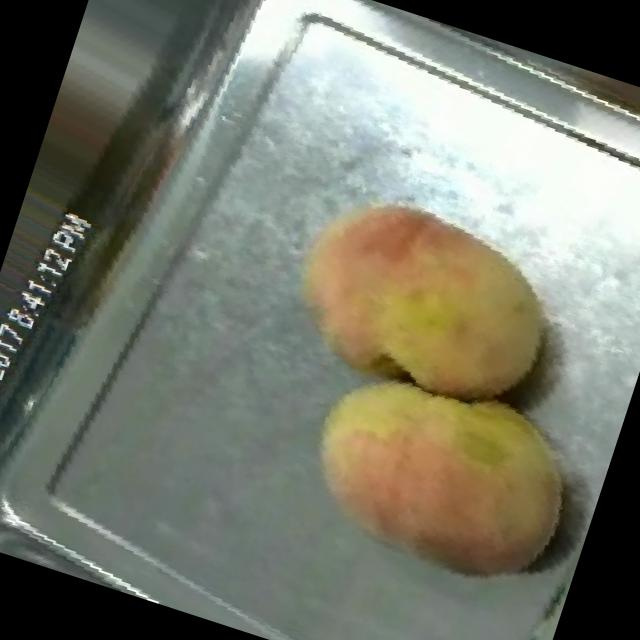Fruit: (258, 319, 616, 636), (241, 148, 594, 456)
